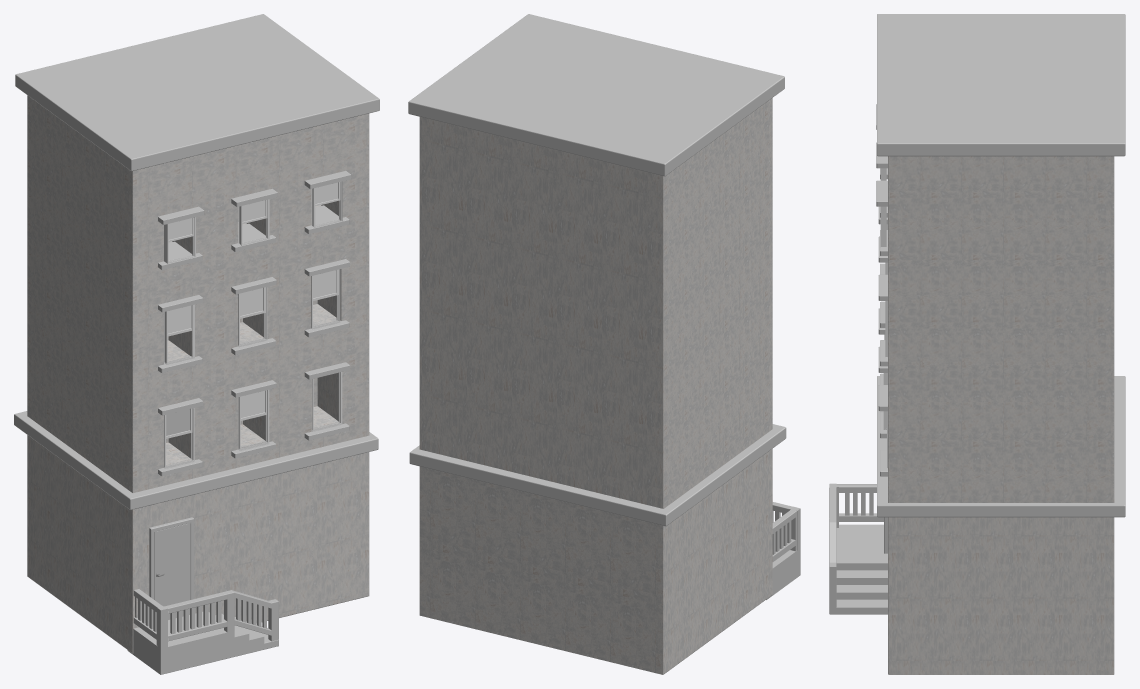
Rendered from House in Mount Vernom.fbx.
3 views of the same model, side by side, from view 1: azimuth 30°, elevation 25°; view 2: azimuth 150°, elevation 25°; view 3: azimuth 270°, elevation 25° (orthographic). The views are drawn at different scales.
Parts seen in each view (by area): view 1: Cube, Cube.001, Door, Cube.002, Cube.003, DoorFrame, Window.L.004, Window.L.005, Window.L.007, Window.L.003, Window.L.006; view 2: Cube; view 3: Cube, Cube.001, Cube.002, Cube.003.
Boxes of the visible parts, <box> form: Cube: <box>14,14,379,674</box>; Cube.001: <box>158,205,349,476</box>; Door: <box>154,523,190,619</box>; Cube.002: <box>158,259,349,415</box>; Cube.003: <box>158,171,350,224</box>; DoorFrame: <box>149,517,194,599</box>; Window.L.004: <box>240,287,265,318</box>; Window.L.005: <box>167,305,192,336</box>; Window.L.007: <box>240,390,266,420</box>; Window.L.003: <box>313,269,338,300</box>; Window.L.006: <box>166,408,192,438</box>; Cube: <box>408,14,800,674</box>; Cube: <box>829,14,1125,674</box>; Cube.001: <box>880,168,887,476</box>; Cube.002: <box>878,206,887,411</box>; Cube.003: <box>876,104,887,206</box>.
Bounding box in the file's own units: 166 × 317 × 159.
